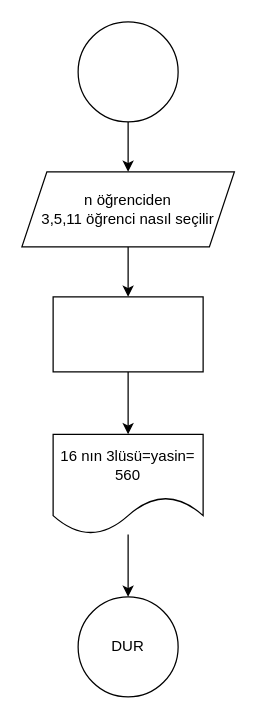
Image size: 256x719. Some labels were removed from this diagram. Here are the shapes that lost their labels. From the top down, the box of each, then its label:
(77, 21, 178, 122): BAŞLA
(52, 296, 203, 372): nin 11lisi=n in 5lisi altlar aynı üstleri topla
